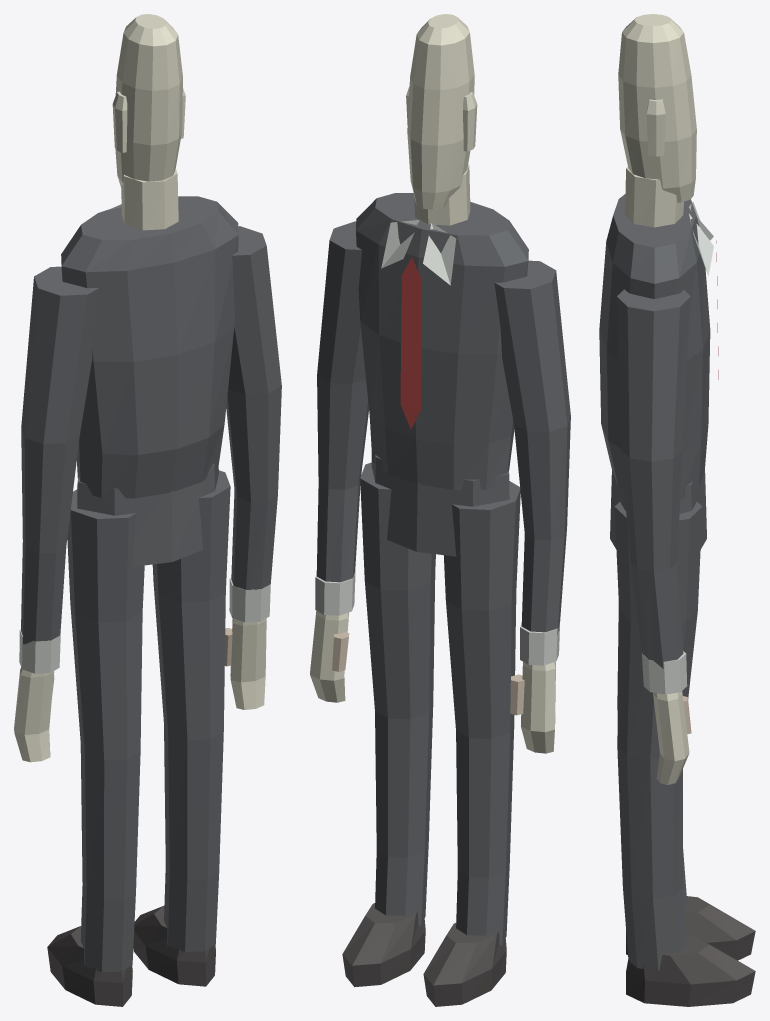
Rendered from 06_faceless_watcher.gltf.
3 renders of one model, left to right at view 1: azimuth 30°, elevation 25°; view 2: azimuth 150°, elevation 25°; view 3: azimuth 270°, elevation 25°, orthographic. The views are drawn at different scales.
Parts seen in each view (by area): view 1: shirt_torso_5, L_trouser_0, R_trouser_2, left_sleeve_6, right_sleeve_10, head_15, pelvis_4, leather_shoe_1, leather_shoe_3, hand_8, hand_12, neck_14 (+3 smaller); view 2: shirt_torso_5, L_trouser_0, R_trouser_2, left_sleeve_6, right_sleeve_10, head_15, pelvis_4, leather_shoe_1, leather_shoe_3, red_tie_20, hand_8, hand_12 (+6 smaller); view 3: R_trouser_2, right_sleeve_10, shirt_torso_5, head_15, leather_shoe_3, leather_shoe_1, hand_12, neck_14, cuff_11, pelvis_4, ear_17, collar_leaf_19.
Boxes of the visible parts, bbox=[...] form: shirt_torso_5: bbox=[61, 196, 238, 498]; L_trouser_0: bbox=[67, 489, 144, 972]; R_trouser_2: bbox=[152, 470, 230, 951]; left_sleeve_6: bbox=[21, 266, 99, 644]; right_sleeve_10: bbox=[226, 226, 281, 589]; head_15: bbox=[115, 14, 182, 187]; pelvis_4: bbox=[77, 463, 218, 566]; leather_shoe_1: bbox=[47, 926, 132, 1006]; leather_shoe_3: bbox=[133, 906, 215, 986]; hand_8: bbox=[14, 667, 54, 762]; hand_12: bbox=[230, 618, 266, 709]; neck_14: bbox=[121, 169, 178, 230]; shirt_torso_5: bbox=[356, 193, 528, 489]; L_trouser_0: bbox=[443, 481, 520, 945]; R_trouser_2: bbox=[360, 462, 435, 925]; left_sleeve_6: bbox=[494, 260, 570, 634]; right_sleeve_10: bbox=[316, 221, 368, 582]; head_15: bbox=[407, 14, 474, 209]; pelvis_4: bbox=[371, 453, 509, 556]; leather_shoe_1: bbox=[423, 923, 506, 1006]; leather_shoe_3: bbox=[342, 903, 425, 987]; red_tie_20: bbox=[400, 257, 421, 429]; hand_8: bbox=[521, 661, 555, 753]; hand_12: bbox=[310, 610, 348, 702]; R_trouser_2: bbox=[614, 502, 702, 970]; right_sleeve_10: bbox=[617, 289, 690, 668]; shirt_torso_5: bbox=[599, 194, 710, 499]; head_15: bbox=[618, 14, 696, 202]; leather_shoe_3: bbox=[626, 936, 755, 1006]; leather_shoe_1: bbox=[626, 896, 755, 960]; hand_12: bbox=[653, 691, 689, 784]; neck_14: bbox=[625, 167, 683, 227]; cuff_11: bbox=[642, 651, 687, 694]; pelvis_4: bbox=[610, 469, 706, 549]; ear_17: bbox=[646, 99, 665, 156]; collar_leaf_19: bbox=[688, 213, 713, 276].
Bounding box in the file's own units: 0.5632 × 2.05 × 0.3042.
